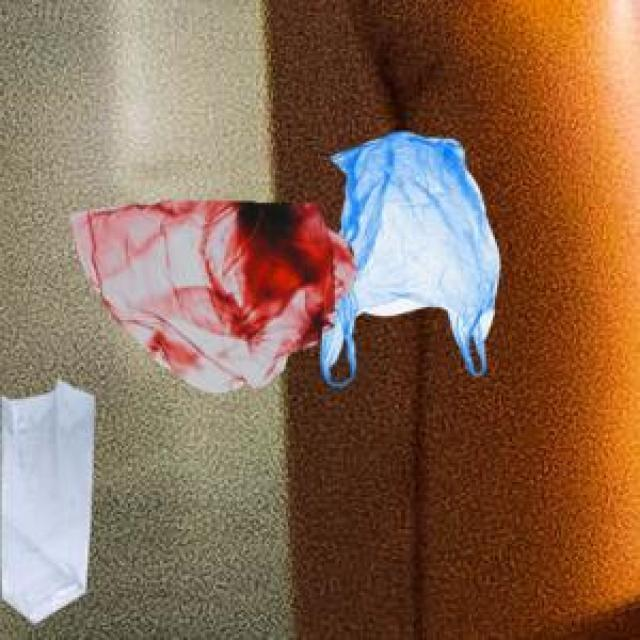Bolsa-de-plastico: (66, 205, 342, 388), (323, 143, 480, 380)
